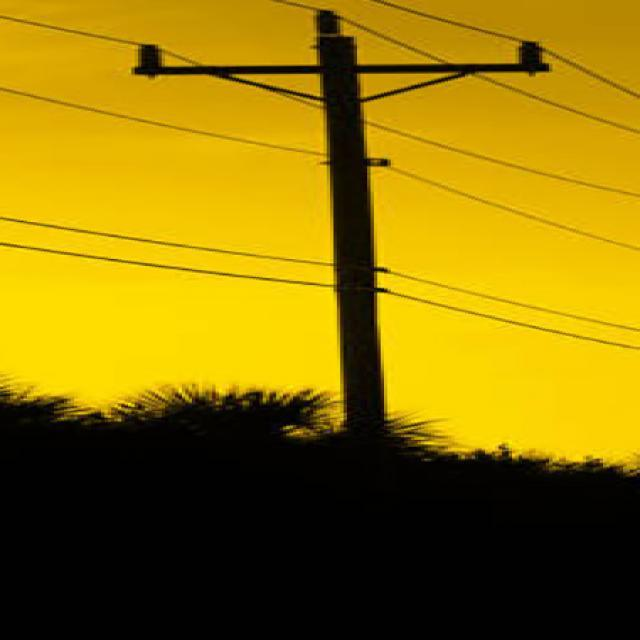pole: (122, 8, 573, 434)
